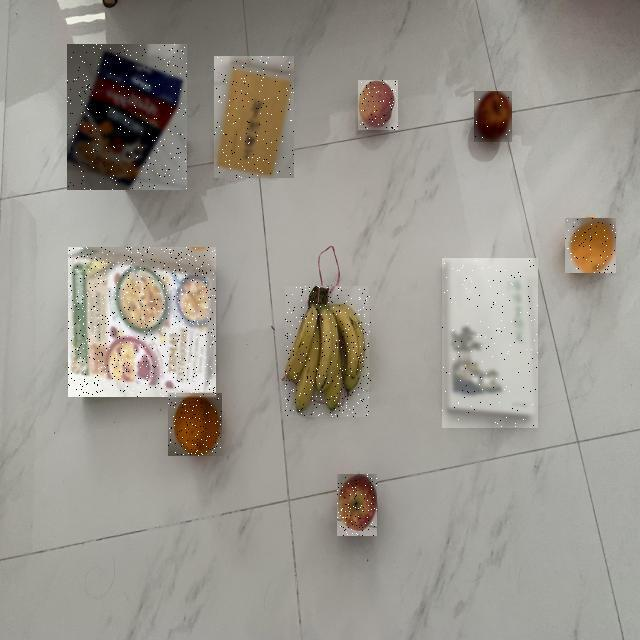Apple: (337, 475, 377, 537), (358, 80, 398, 130), (475, 92, 513, 144)
Banana: (286, 286, 372, 417)
Book: (442, 259, 538, 429), (214, 56, 294, 178)
Cereal: (68, 247, 216, 397), (67, 44, 187, 190)
Orange: (168, 393, 222, 456), (565, 218, 616, 273)
